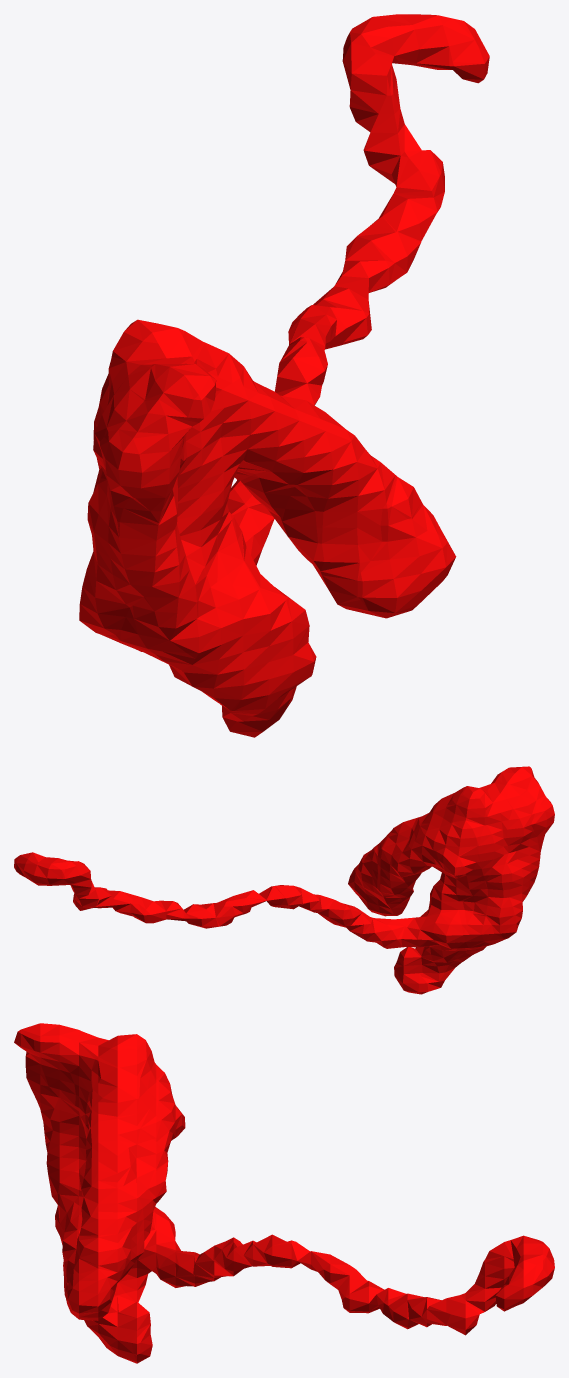
File: sbmA_coarse.dae
3 views of the same model, one above another, from view 1: azimuth 30°, elevation 25°; view 2: azimuth 150°, elevation 25°; view 3: azimuth 270°, elevation 25° (orthographic). The views are drawn at different scales.
Visible parts, largest first — view 1: sbmA; view 2: sbmA; view 3: sbmA.
Part boxes in pixels (x1=…): sbmA: x1=79, y1=14, x2=489, y2=737; sbmA: x1=14, y1=766, x2=554, y2=994; sbmA: x1=14, y1=1023, x2=554, y2=1363.
Size of the model in its own units: 158 by 91.24 by 154.
